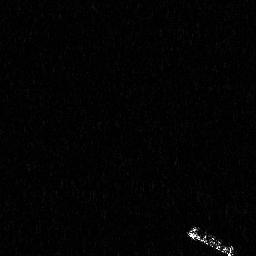ship: (183, 224, 238, 256)
